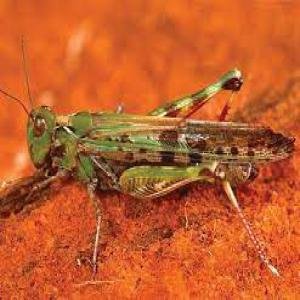locust: (20, 82, 300, 211)
